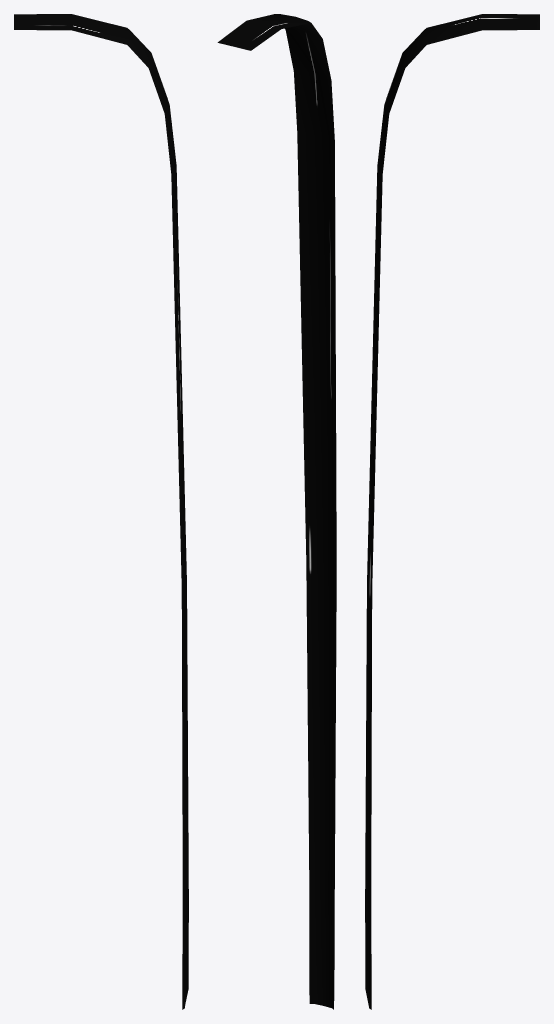
File: P_Sandfall04.obj
3 renders of one model, left to right at view 1: azimuth 90°, elevation 25°; view 2: azimuth 150°, elevation 25°; view 3: azimuth 270°, elevation 25°, orthographic. The views are drawn at different scales.
Size of the model in its own units: 1.06 by 27.52 by 4.44.
